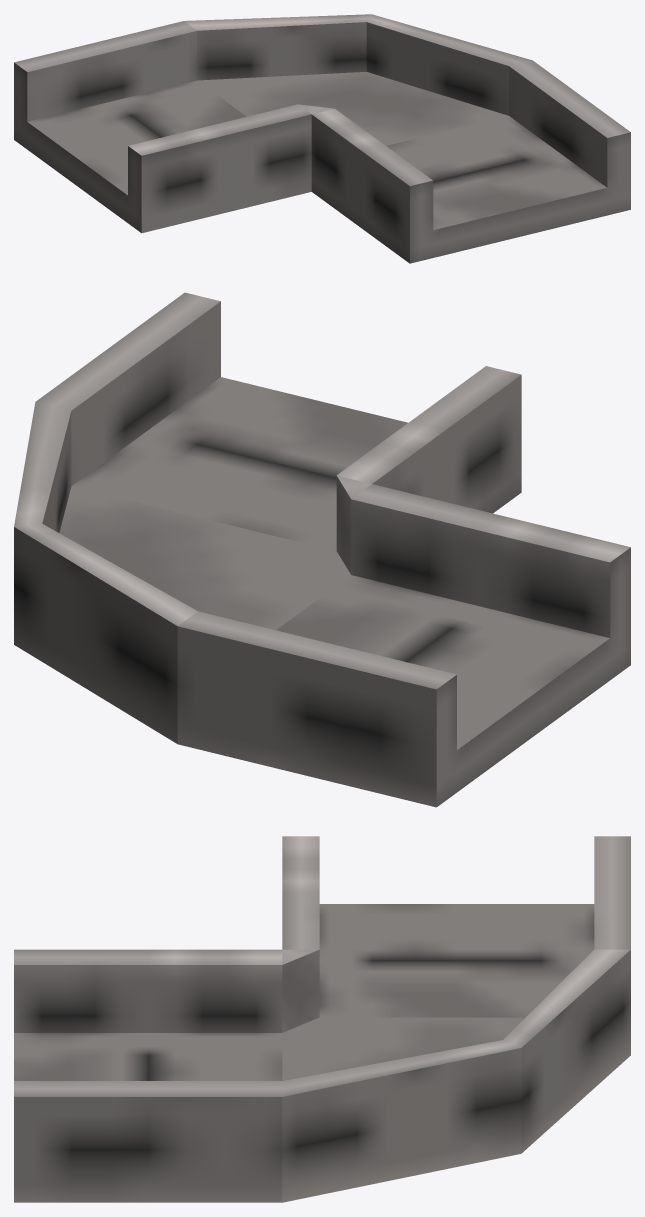
Rendered from obj_cableRail_bow.fbx.
3 views of the same model, one above another, from view 1: azimuth 30°, elevation 25°; view 2: azimuth 150°, elevation 25°; view 3: azimuth 270°, elevation 25° (orthographic). The views are drawn at different scales.
Parts seen in each view (by area): view 1: obj_cableRail_bow; view 2: obj_cableRail_bow; view 3: obj_cableRail_bow.
Boxes of the visible parts, <box> form: obj_cableRail_bow: <box>14,14,630,263</box>; obj_cableRail_bow: <box>14,292,630,807</box>; obj_cableRail_bow: <box>14,836,630,1202</box>.
Size of the model in its own units: 23 by 4.35 by 23.
